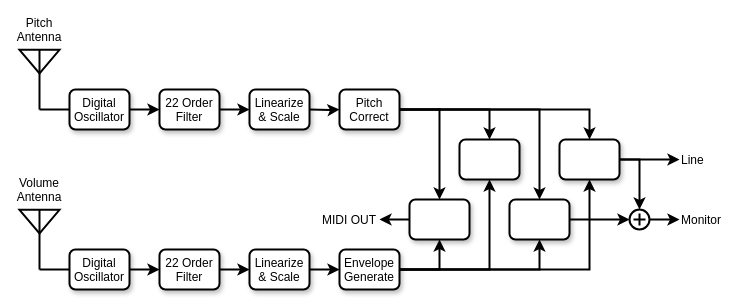
This 738x306 diagram has some shape labels left out. The shapes that lost their labels are listed below. From the top down, each one's centre as x and y in pixels, then its label:
[490,160]: LED Tuner
[590,160]: DSP Synth
[440,220]: MIDI
[540,220]: Pitch Preview
